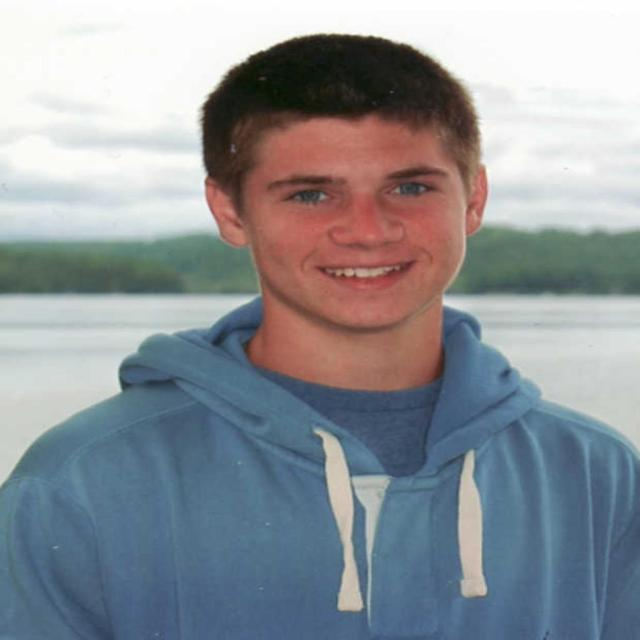Face: (199, 71, 499, 338)
